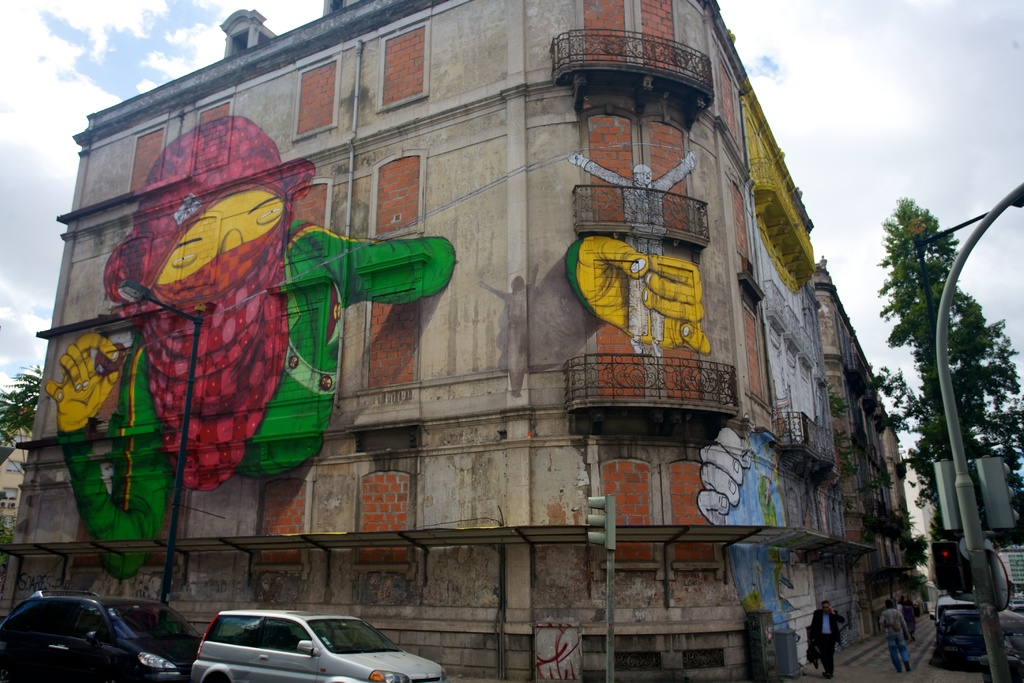Car: (195, 606, 440, 682), (0, 590, 195, 682), (933, 611, 986, 661), (935, 597, 970, 608)
